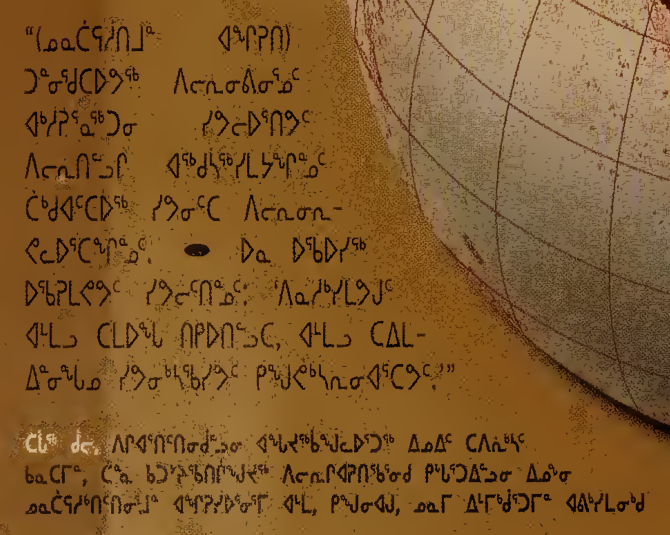inuktitut: (168, 23, 320, 188), (17, 18, 159, 181), (94, 315, 138, 354), (22, 361, 41, 395)
